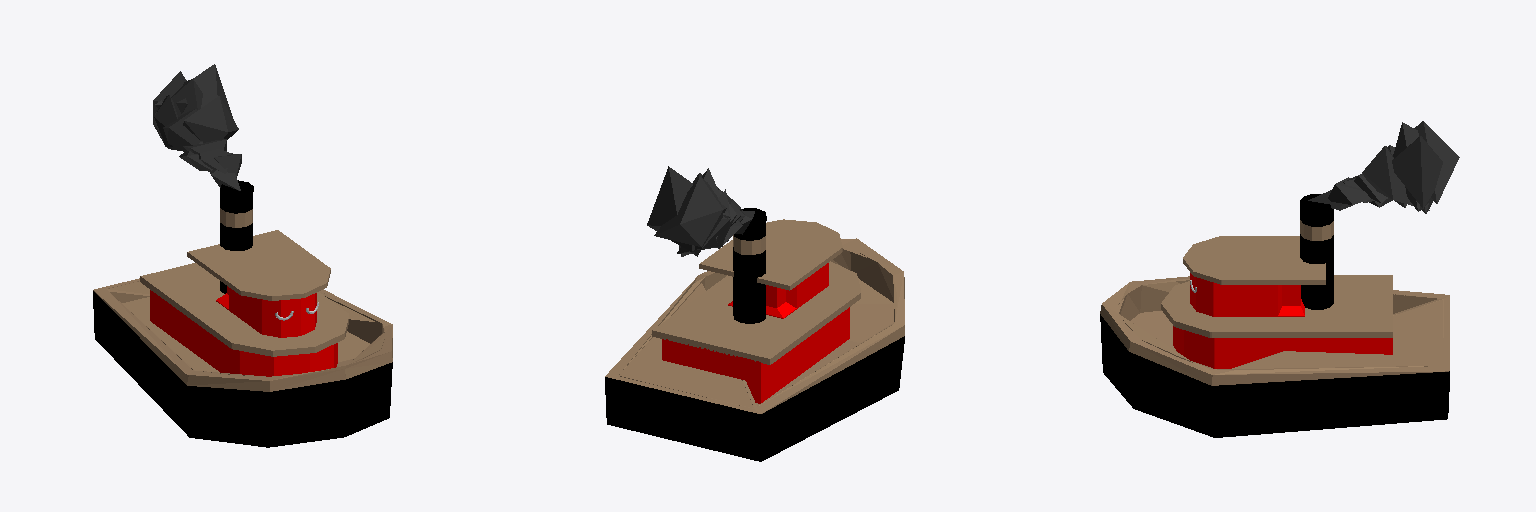
File: tugboat.obj
3 views of the same model, side by side, from view 1: azimuth 30°, elevation 25°; view 2: azimuth 150°, elevation 25°; view 3: azimuth 270°, elevation 25° (orthographic).
Parts seen in each view (by area): view 1: Circle, Circle.001, smoke_Icosphere.010, Circle.002, Circle.003, Circle.004, Cylinder; view 2: Circle, Circle.001, smoke_Icosphere.010, Circle.003, Circle.002, Cylinder, Circle.004; view 3: Circle, Circle.001, smoke_Icosphere.010, Circle.002, Circle.003, Circle.004, Cylinder.
Boxes of the visible parts, x1=… form: Circle: x1=93, y1=278, x2=392, y2=447; Circle.001: x1=140, y1=263, x2=348, y2=356; smoke_Icosphere.010: x1=153, y1=64, x2=241, y2=190; Circle.002: x1=187, y1=230, x2=330, y2=300; Circle.003: x1=150, y1=290, x2=337, y2=376; Circle.004: x1=216, y1=286, x2=316, y2=337; Cylinder: x1=220, y1=180, x2=253, y2=293; Circle: x1=605, y1=238, x2=904, y2=461; Circle.001: x1=652, y1=261, x2=860, y2=364; smoke_Icosphere.010: x1=647, y1=166, x2=754, y2=256; Circle.003: x1=662, y1=307, x2=849, y2=403; Circle.002: x1=699, y1=219, x2=842, y2=290; Cylinder: x1=733, y1=208, x2=766, y2=323; Circle.004: x1=728, y1=263, x2=828, y2=318; Circle: x1=1100, y1=276, x2=1449, y2=437; Circle.001: x1=1161, y1=275, x2=1392, y2=337; smoke_Icosphere.010: x1=1308, y1=121, x2=1459, y2=213; Circle.002: x1=1183, y1=236, x2=1325, y2=284; Circle.003: x1=1173, y1=326, x2=1392, y2=368; Circle.004: x1=1190, y1=273, x2=1304, y2=316; Cylinder: x1=1300, y1=194, x2=1333, y2=309.
Size of the model in its own units: 4.21 by 5.21 by 6.34.